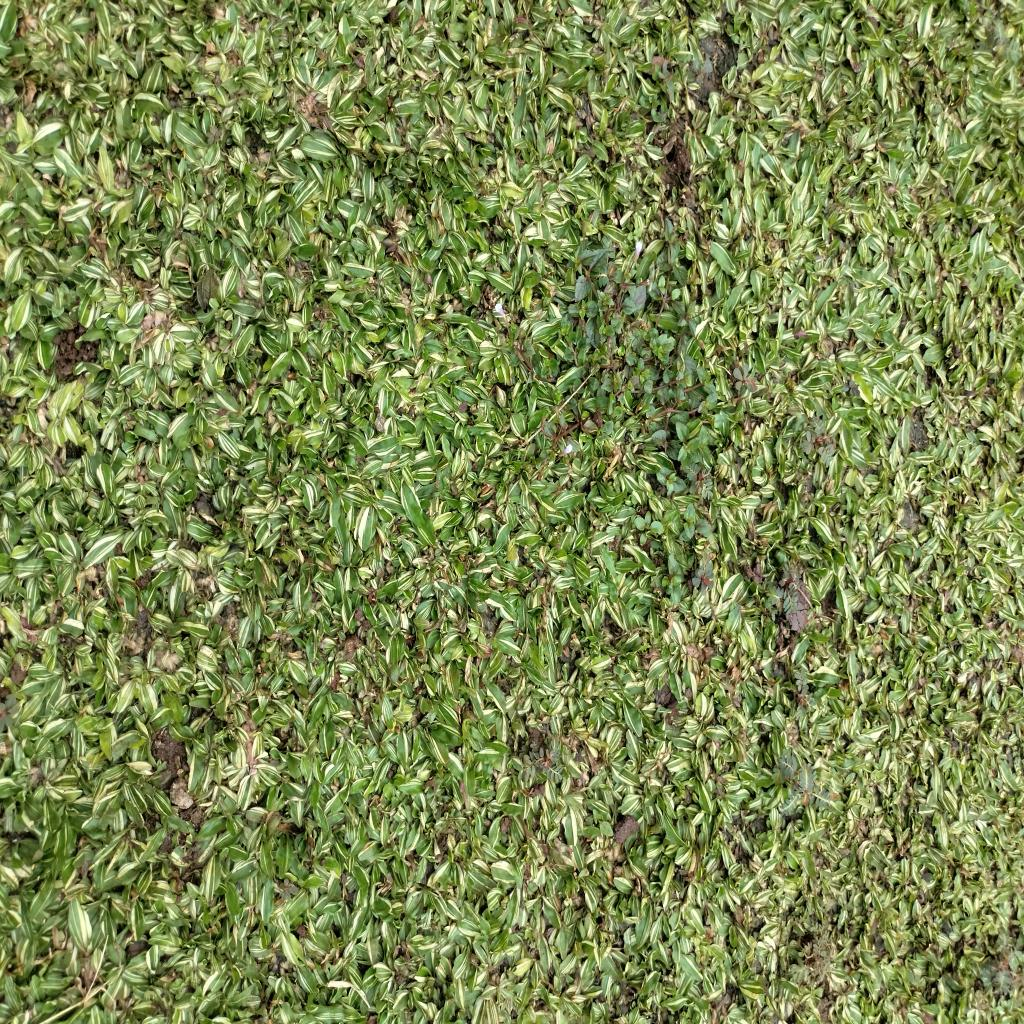buah daun: (774, 736, 845, 822), (981, 920, 1021, 1001), (518, 730, 565, 789), (801, 405, 840, 471), (763, 560, 804, 620), (807, 922, 837, 981), (684, 454, 718, 500), (992, 17, 1022, 68), (732, 359, 762, 405), (789, 662, 812, 712), (692, 552, 718, 595), (689, 56, 715, 91)
ungu tunggang: (573, 212, 719, 456), (494, 300, 538, 373), (674, 497, 710, 544), (632, 508, 666, 548), (652, 461, 688, 496)
